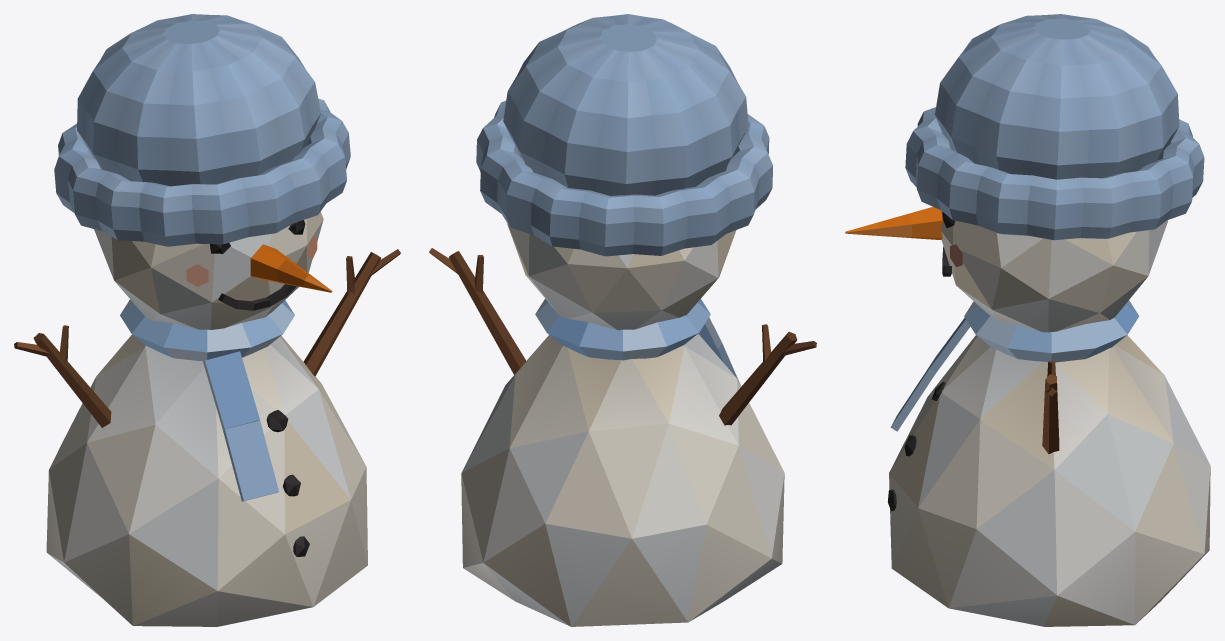
The model's file is snowman.glb.
3 views of the same model, side by side, from view 1: azimuth 30°, elevation 25°; view 2: azimuth 150°, elevation 25°; view 3: azimuth 270°, elevation 25° (orthographic).
Parts seen in each view (by area): view 1: BodySnow, Crown, Cuff, HeadSnow, Scarf, ScarfTail.001, ScarfTail, Stick.001, Carrot, Stick, Smile; view 2: BodySnow, Crown, Cuff, HeadSnow, Scarf, Stick.001, Stick; view 3: BodySnow, Crown, Cuff, HeadSnow, Scarf, Carrot, Stick.001, ScarfTail.001, ScarfTail.
Boxes of the visible parts, x1=… form: BodySnow: x1=46, y1=334, x2=367, y2=626; Crown: x1=77, y1=14, x2=320, y2=186; Cuff: x1=54, y1=99, x2=350, y2=246; HeadSnow: x1=94, y1=211, x2=323, y2=329; Scarf: x1=120, y1=299, x2=294, y2=361; ScarfTail.001: x1=223, y1=420, x2=278, y2=501; ScarfTail: x1=203, y1=351, x2=259, y2=429; Stick.001: x1=303, y1=252, x2=381, y2=376; Carrot: x1=250, y1=244, x2=332, y2=292; Stick: x1=33, y1=333, x2=111, y2=427; Smile: x1=218, y1=284, x2=296, y2=310; BodySnow: x1=461, y1=334, x2=784, y2=626; Crown: x1=503, y1=14, x2=748, y2=195; Cuff: x1=476, y1=100, x2=773, y2=256; HeadSnow: x1=507, y1=223, x2=736, y2=330; Scarf: x1=535, y1=298, x2=710, y2=360; Stick.001: x1=448, y1=251, x2=526, y2=374; Stick: x1=719, y1=331, x2=797, y2=425; BodySnow: x1=889, y1=335, x2=1210, y2=626; Crown: x1=935, y1=14, x2=1179, y2=179; Cuff: x1=905, y1=107, x2=1204, y2=240; HeadSnow: x1=941, y1=211, x2=1167, y2=332; Scarf: x1=964, y1=300, x2=1139, y2=362; Carrot: x1=845, y1=207, x2=942, y2=239; Stick.001: x1=1042, y1=374, x2=1059, y2=453; ScarfTail.001: x1=890, y1=360, x2=935, y2=431; ScarfTail: x1=929, y1=317, x2=970, y2=373.
Size of the model in its own units: 1.12 by 1.51 by 0.9166.
